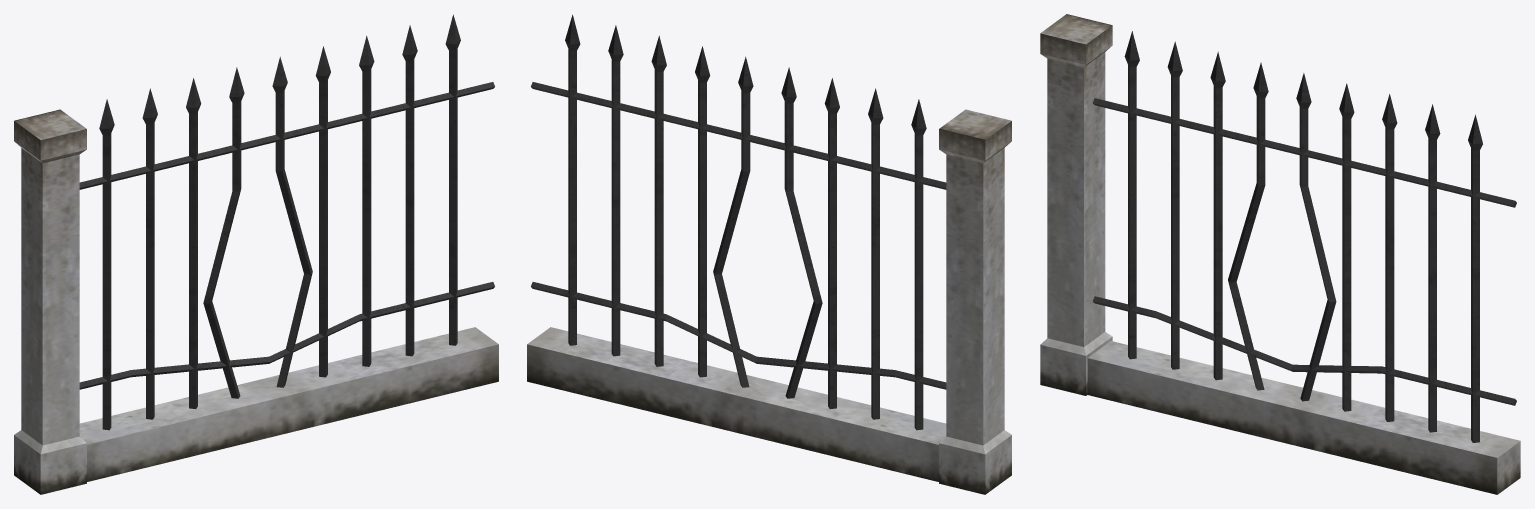
The model's file is fence2.glb.
The picture shows the model from 3 angles, left to right: view 1: azimuth 30°, elevation 25°; view 2: azimuth 150°, elevation 25°; view 3: azimuth 330°, elevation 25°; orthographic projection.
Parts seen in each view (by area): view 1: Fence_2; view 2: Fence_2; view 3: Fence_2.
Boxes of the visible parts, left/top/right/bottom form: Fence_2: left=14, top=14, right=498, bottom=494; Fence_2: left=527, top=14, right=1011, bottom=494; Fence_2: left=1040, top=14, right=1520, bottom=494.
Bounding box in the file's own units: 362 × 273 × 36.03.
Materials: 2 (2 with a texture image).
